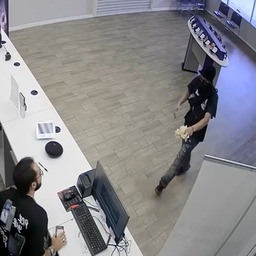person: (155, 65, 219, 196), (1, 157, 67, 256)
